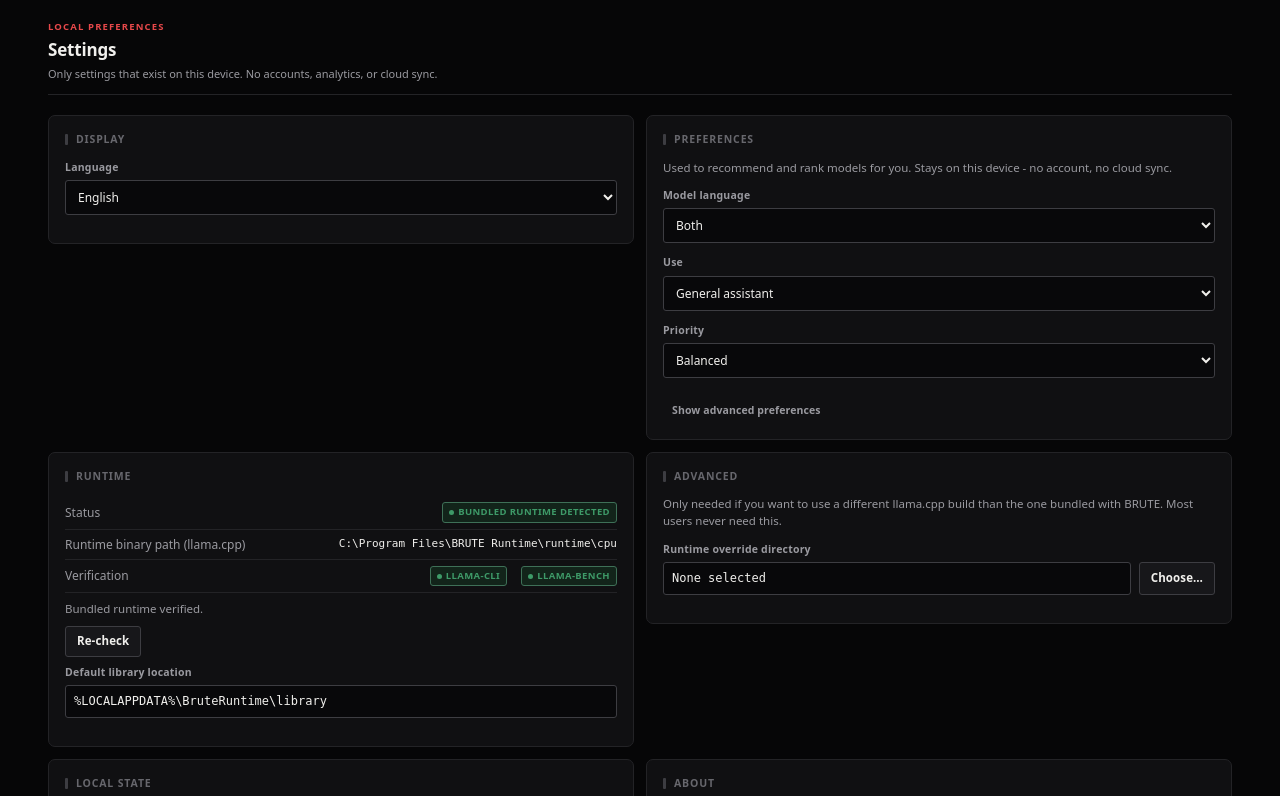
Test case: Settings page — local preference profile › keeps advanced preferences hidden until explicitly shown
Expected: the dropdown labelled "Model language" is shown, x1=663 y1=208 x2=1215 y2=244
Click the button "Show advanced preferences": point(746, 410) x1=663 y1=398 x2=830 y2=423
(page scrolled)
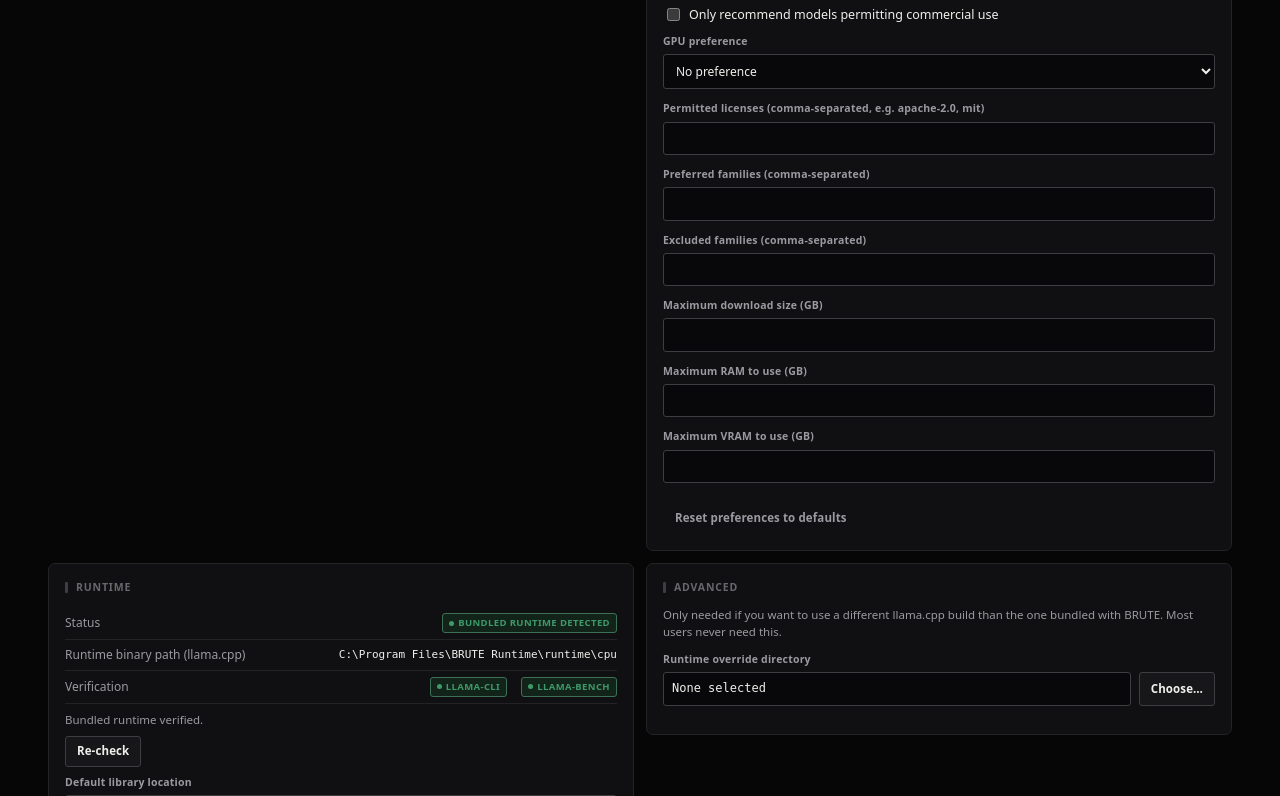
Expected: the number field labelled "Maximum RAM to use (GB)" is shown, x1=663 y1=384 x2=1215 y2=417
